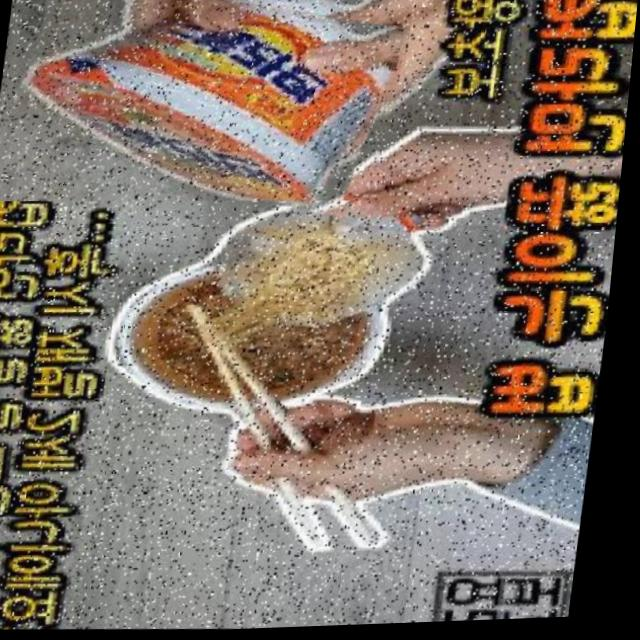Miscellaneous: (0, 0, 406, 214)
